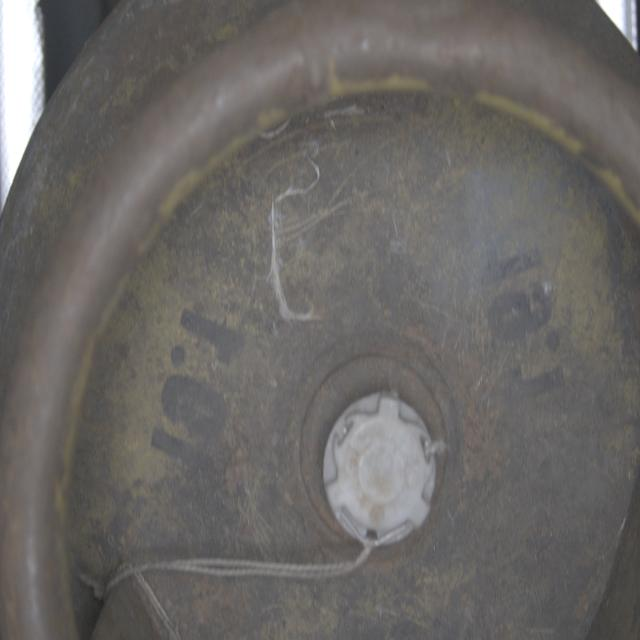Cap: (320, 392, 439, 553)
